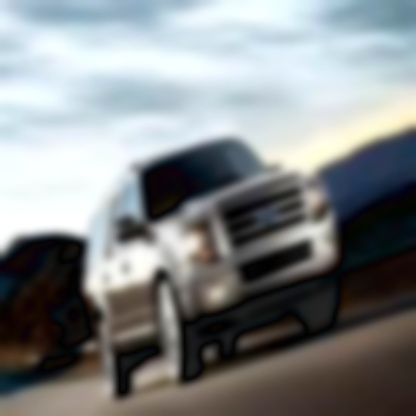Vehicle: (79, 135, 345, 407)
